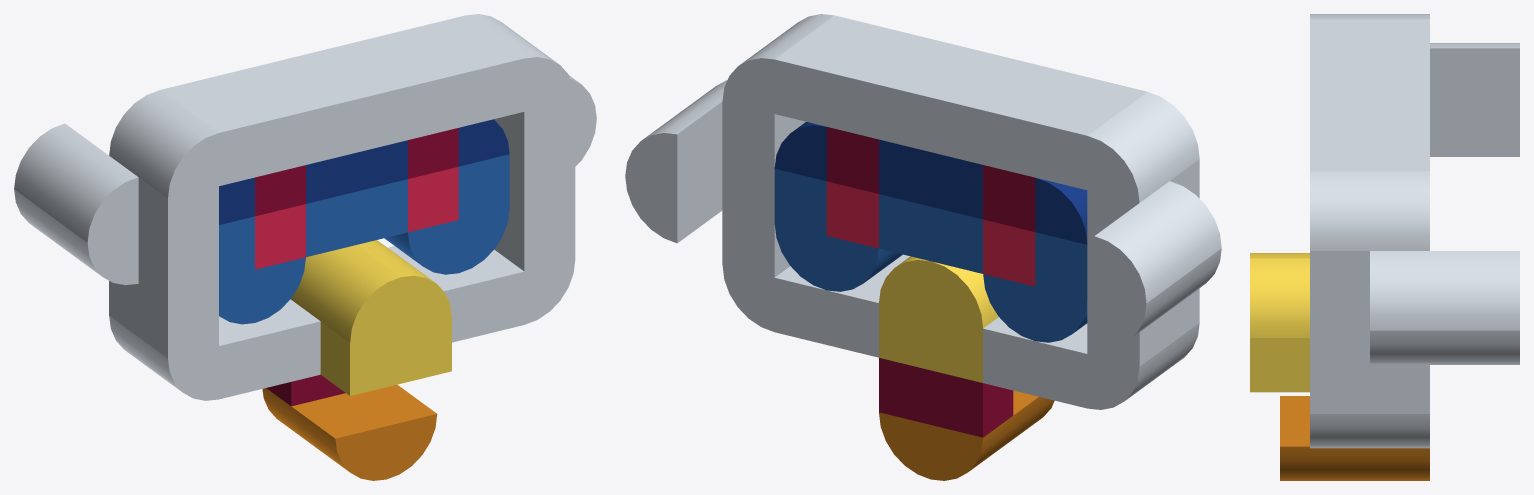
File: TechnoCultistGoggles.glb
3 renders of one model, left to right at view 1: azimuth 30°, elevation 25°; view 2: azimuth 150°, elevation 25°; view 3: azimuth 270°, elevation 25°, orthographic. The views are drawn at different scales.
Visible parts, largest first — view 1: generated(Clone); view 2: generated(Clone); view 3: generated(Clone).
Part boxes in pixels (<box>): generated(Clone): <box>14,14,596,480</box>; generated(Clone): <box>625,14,1221,480</box>; generated(Clone): <box>1250,14,1519,480</box>.
Bounding box in the file's own units: 10 × 7 × 4.5.
